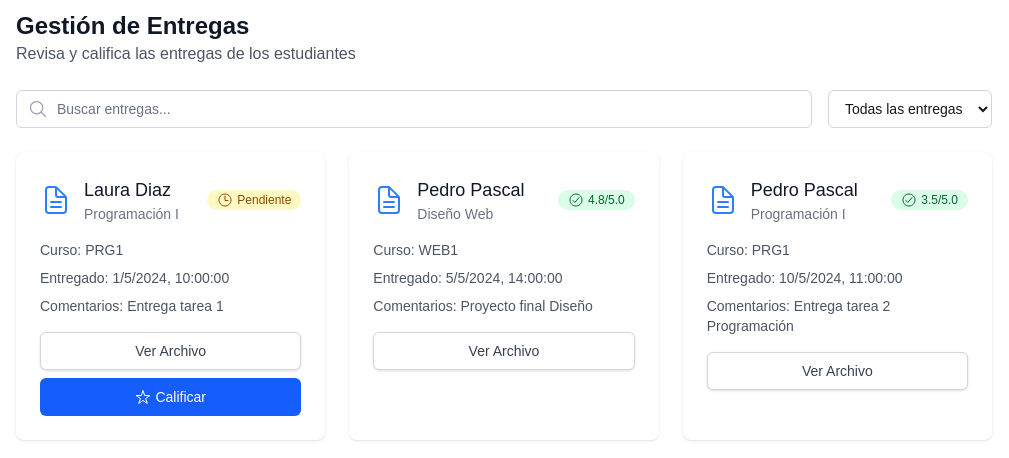
Test case: SubmissionsPage › debería filtrar entregas por estado "Pendientes"
The width and height of the screenshot is (1009, 458).
⭐ Asegúrate que tu select tenga este aria-label en SubmissionsPage.tsx
Select "Pendientes" in the dropdown named "Filtrar por estado de entrega" at (910, 109), box [828, 90, 992, 128]
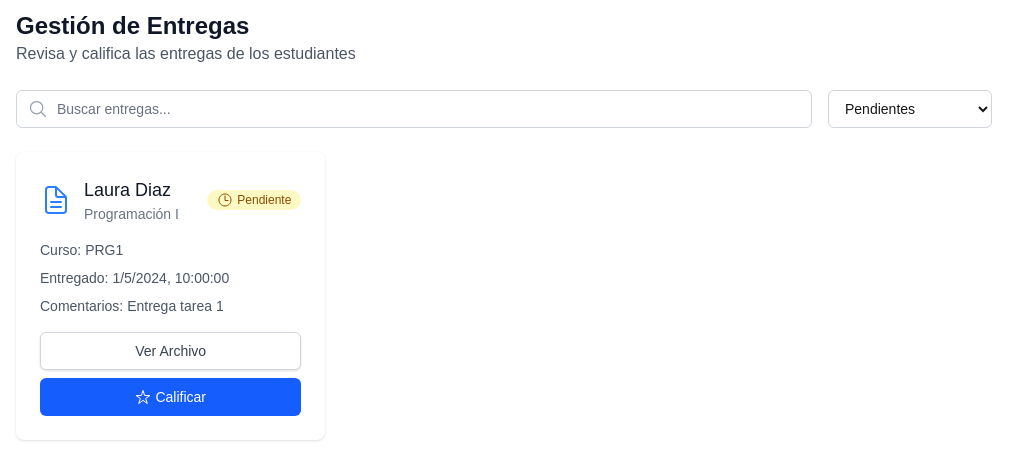
Check: the heading "Laura Diaz" is shown, box [84, 176, 179, 204]
Check: the heading "Pedro Pascal" is gone
